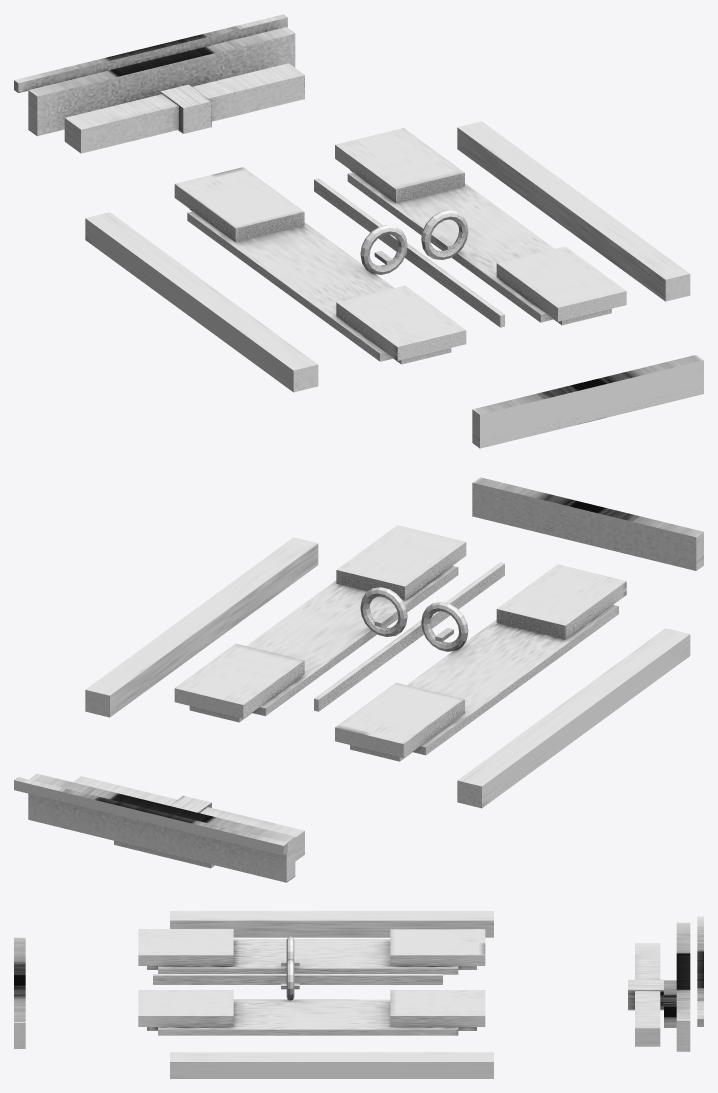
File: door_w3.glb
3 renders of one model, top to bottom at view 1: azimuth 30°, elevation 25°; view 2: azimuth 150°, elevation 25°; view 3: azimuth 270°, elevation 25°, orthographic. The views are drawn at different scales.
Parts seen in each view (by area): view 1: DoorTrav, DoorWood, DoorBronze; view 2: DoorTrav, DoorWood, DoorBronze; view 3: DoorWood, DoorTrav, DoorBronze.
Part boxes in pixels (x1,y1,x2,y2): DoorTrav: (14,14,703,448); DoorWood: (174,128,626,364); DoorBronze: (360,210,468,274); DoorTrav: (14,477,703,882); DoorWood: (174,525,626,761); DoorBronze: (360,587,468,651); DoorWood: (138,929,485,1035); DoorTrav: (14,911,703,1078); DoorBronze: (281,936,299,1000).
Size of the model in its own units: 2.09 by 0.3851 by 4.04.
3 materials, 3 textured.
